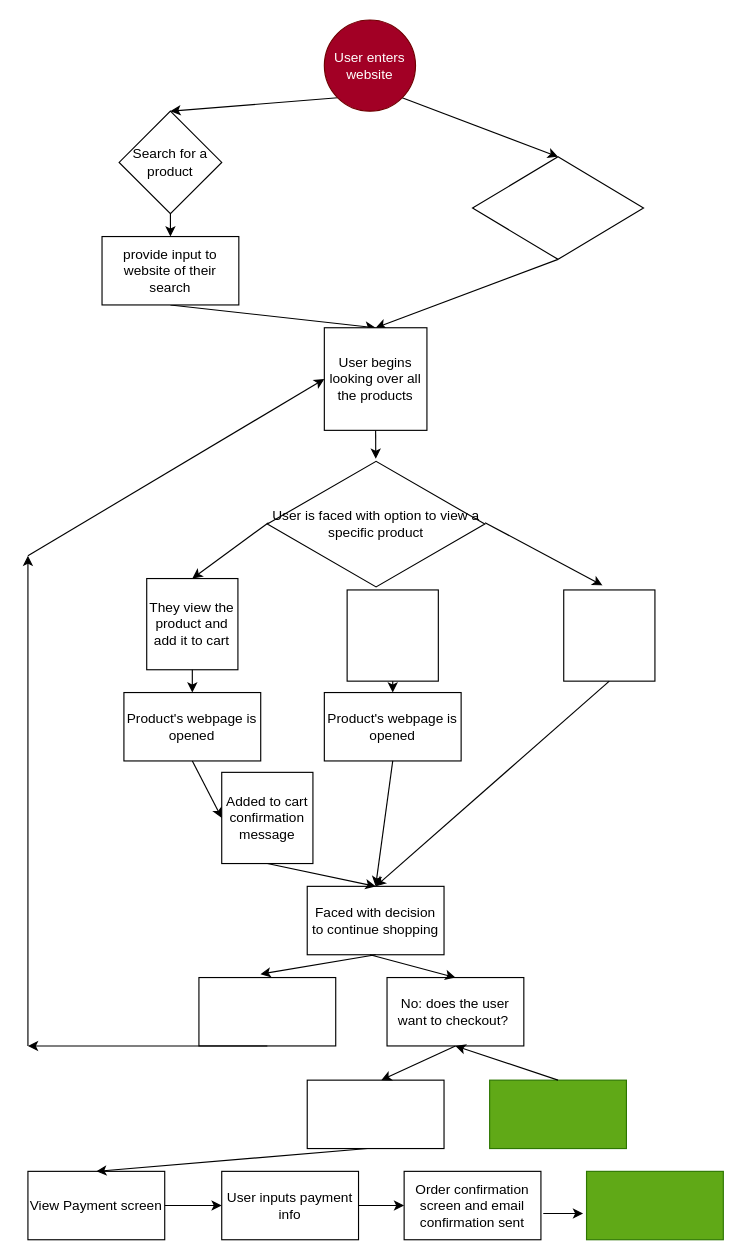
This 743x1260 diagram has some shape labels left out. Here are the shapes that lost their labels. From the top down, the centre of each, then its label:
point 557,207: Explore products on homepage
point 392,635: They view the product and don't add it to cart
point 609,635: They don't view the product
point 267,1011: Yes: search for a new product?
point 375,1114: Yes: user presented view cart screen
point 557,1114: No: user leaves website
point 654,1205: User leaves site
